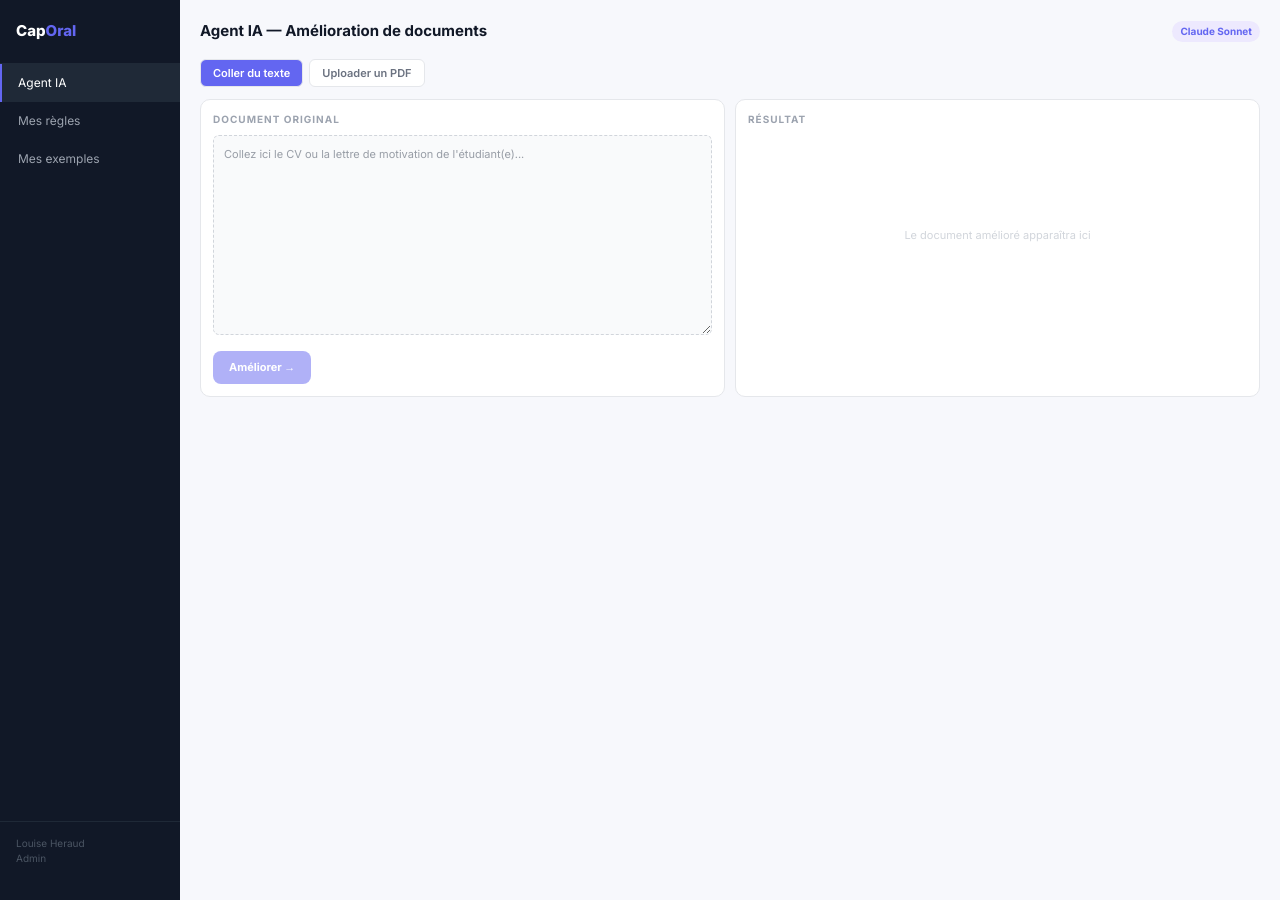
Scenario: AgentPage › shows changes after improvement
Replace the text in the text box with placeholder "Collez ici le CV" with "Mon CV original" at (462, 235), box [213,135,712,335]
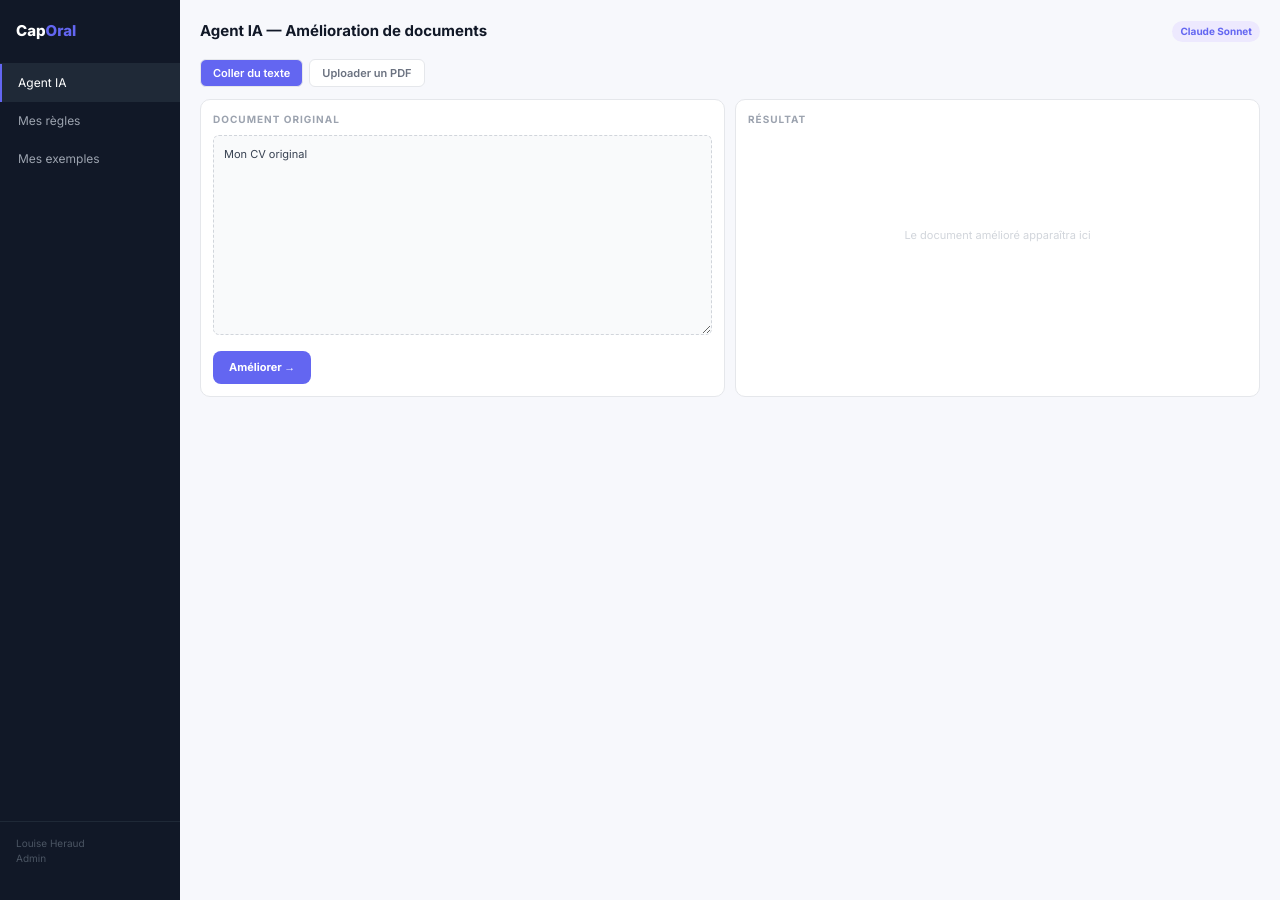
Click the button "Améliorer →" at (262, 367), box [213,351,311,384]
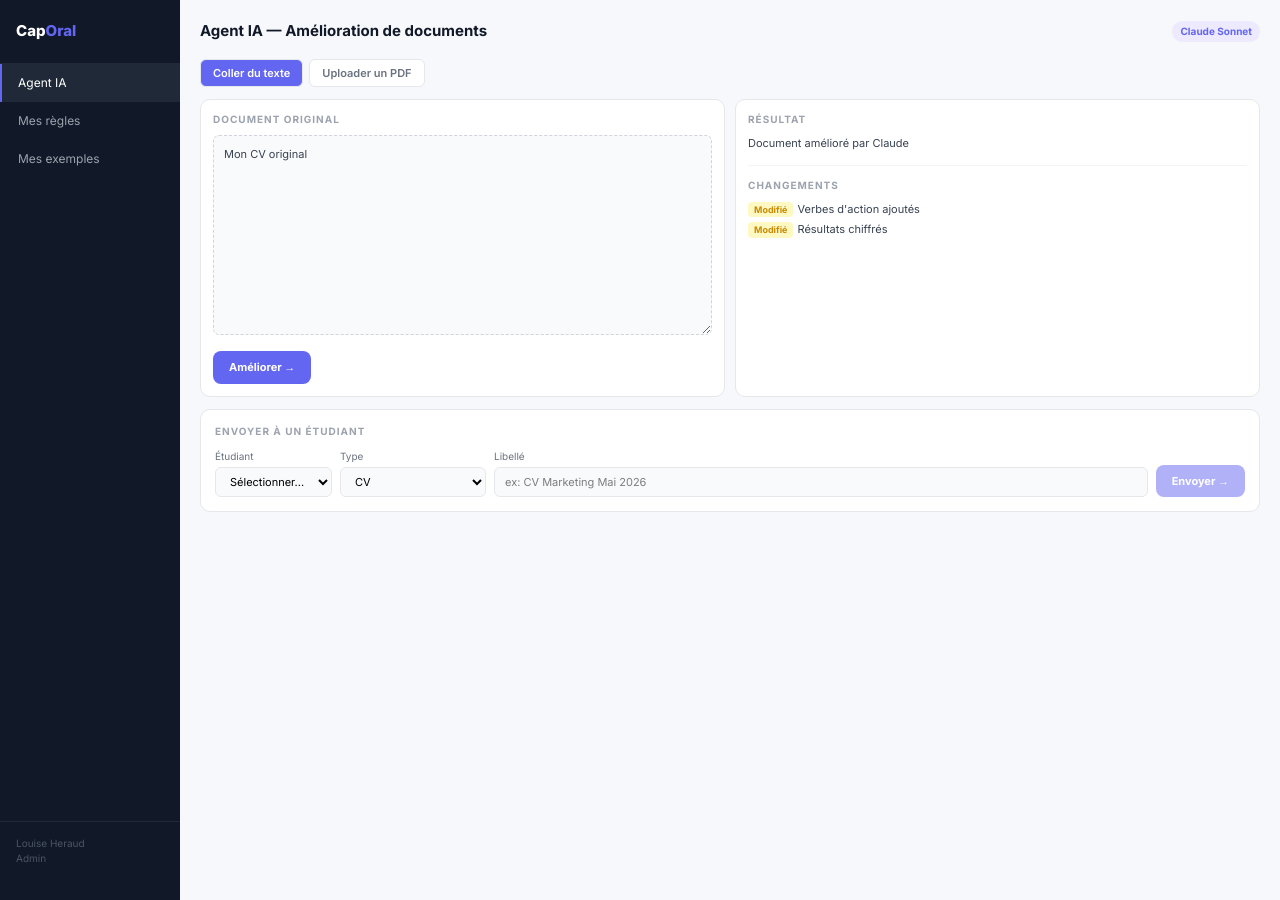
expect the text "Verbes d'action ajoutés" is shown: met, box [798,202,920,216]
